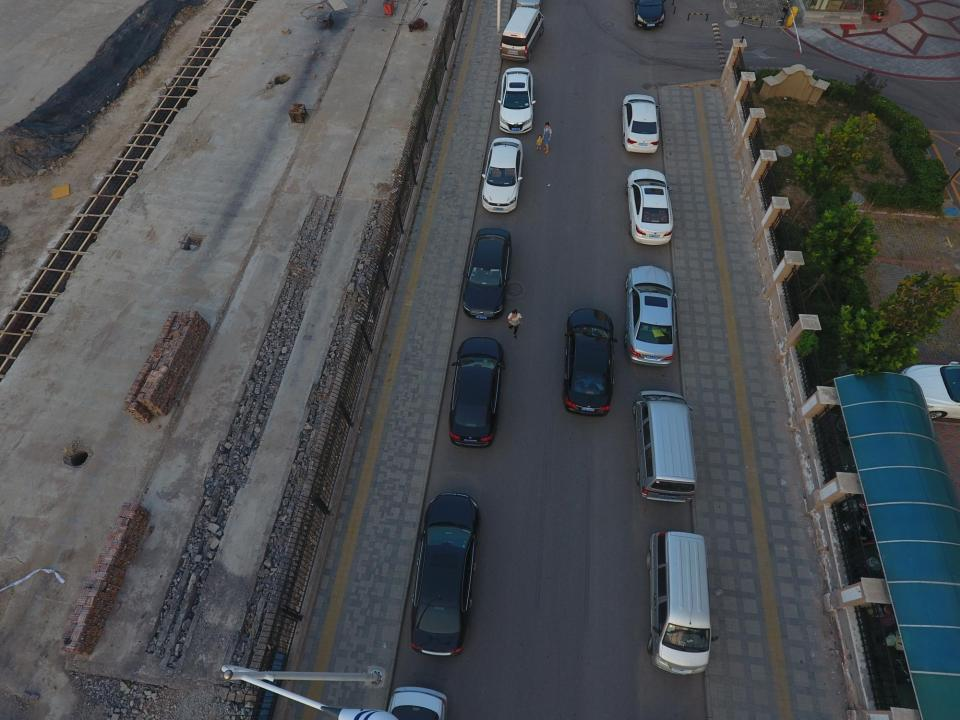car: (410, 494, 479, 656), (448, 336, 504, 448), (562, 308, 618, 417), (624, 266, 678, 367), (463, 228, 512, 320), (897, 362, 960, 420), (626, 168, 673, 244), (481, 138, 523, 213), (498, 68, 535, 133), (622, 94, 660, 152), (631, 0, 666, 30)
van: (646, 531, 719, 674), (633, 390, 697, 502), (500, 7, 545, 62)
